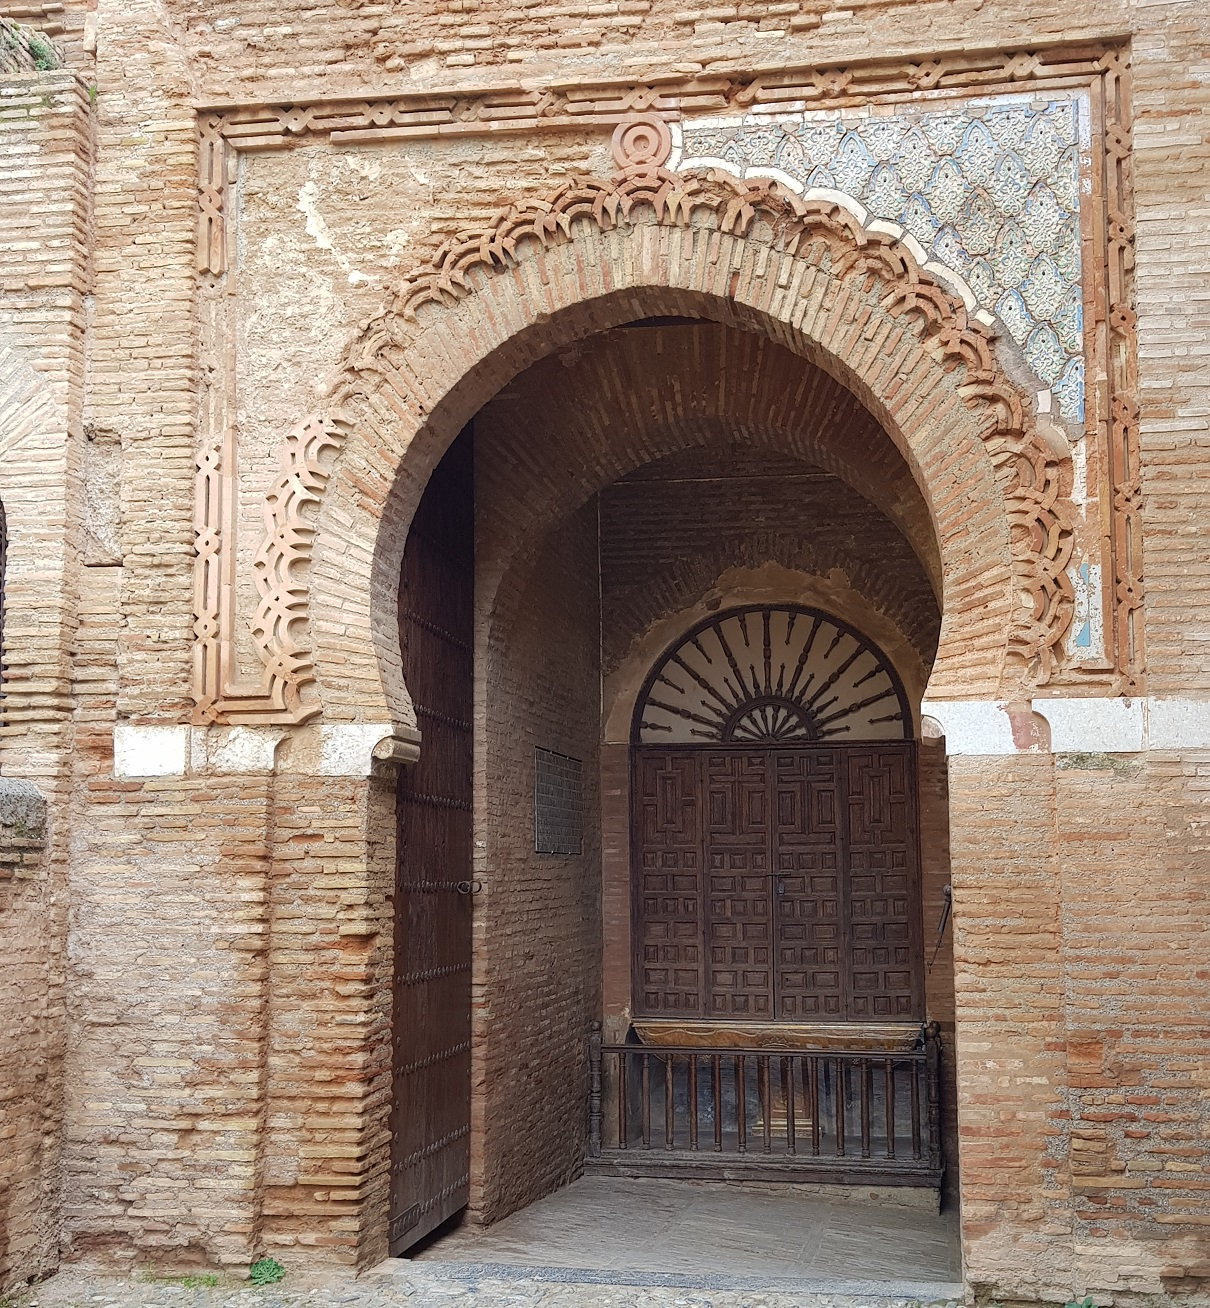arco-herradura: (330, 264, 980, 800)
